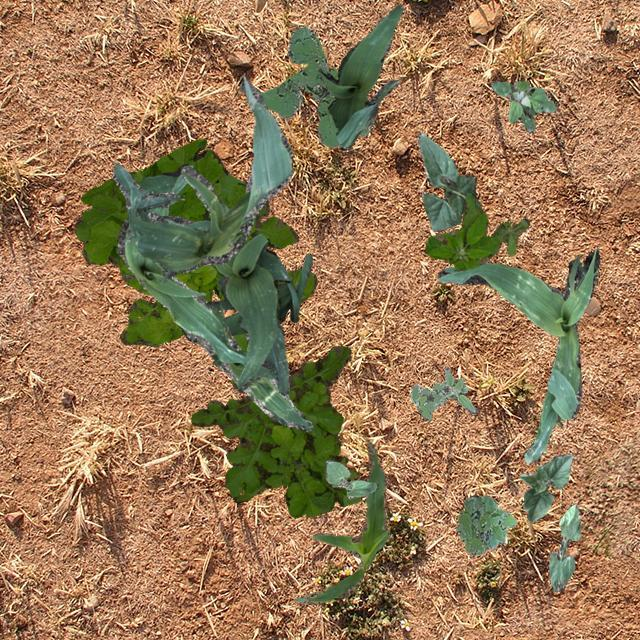crop: (116, 162, 312, 430), (111, 75, 292, 272), (436, 249, 598, 462), (122, 214, 290, 394), (294, 440, 388, 602), (318, 4, 402, 150), (180, 252, 312, 340), (416, 132, 479, 230), (518, 454, 572, 522), (548, 504, 580, 590), (323, 458, 378, 496)
weed: (74, 137, 316, 346), (190, 332, 360, 516), (258, 26, 372, 146), (424, 192, 528, 270), (454, 494, 516, 556), (410, 366, 476, 420), (490, 80, 554, 130)
